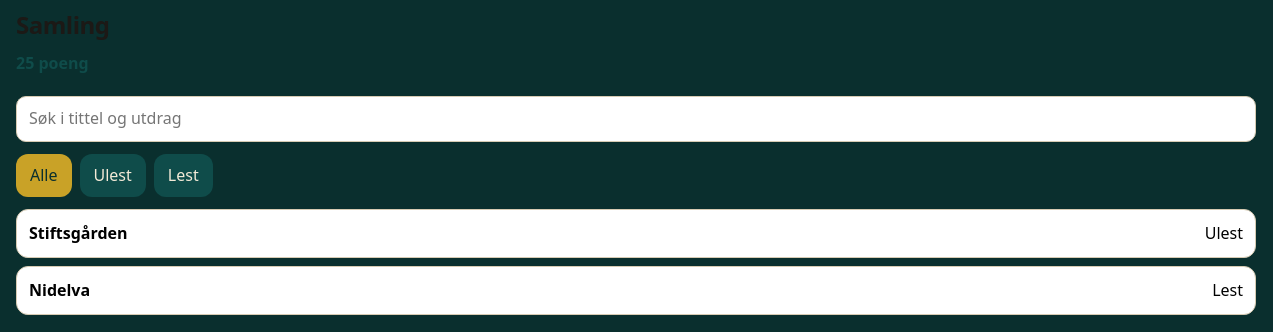
Test case: filter Lest shows only read facts
Click the button "Lest" at [183, 175], box [154, 154, 213, 197]
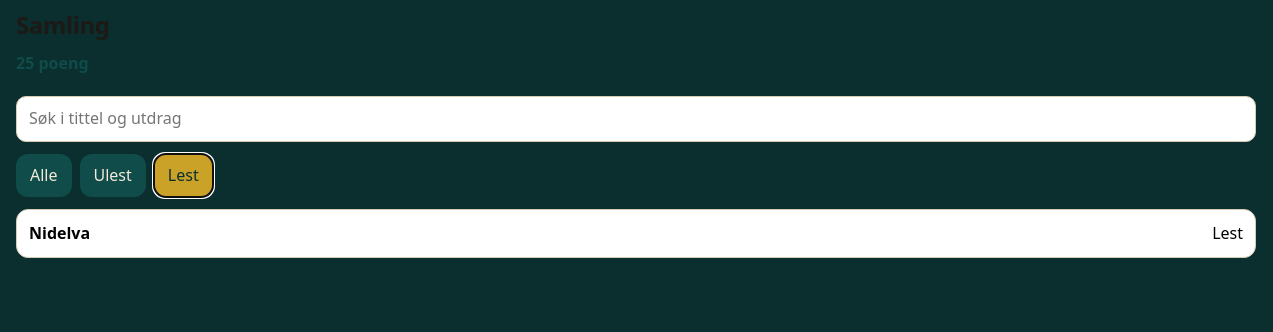
Expected: the text "Nidelva" is shown, [29, 222, 90, 245]
Expected: the button "Stiftsgården" is gone
